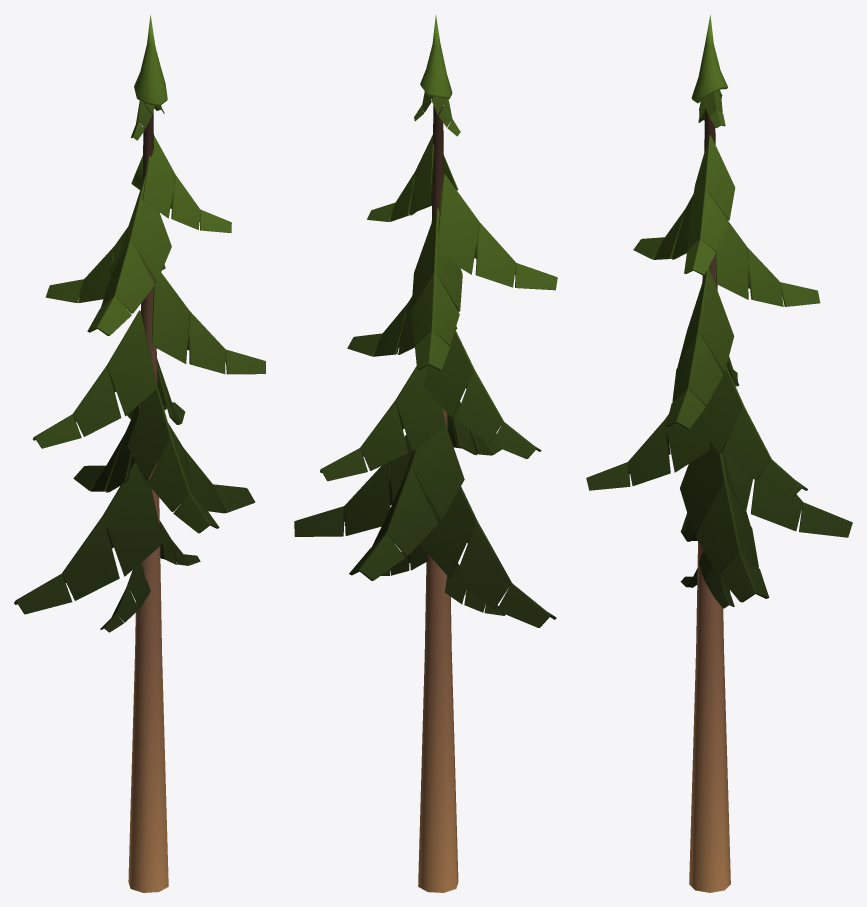
Rendered from Tree_05.fbx.
3 views of the same model, side by side, from view 1: azimuth 30°, elevation 25°; view 2: azimuth 150°, elevation 25°; view 3: azimuth 270°, elevation 25° (orthographic).
Visible parts, largest first — view 1: Tree_05; view 2: Tree_05; view 3: Tree_05.
Part boxes in pixels (x1,y1,x2,y2): Tree_05: (14, 14, 265, 892); Tree_05: (294, 15, 557, 892); Tree_05: (586, 15, 852, 892).
Size of the model in its own units: 1.57 by 5.33 by 1.48.
